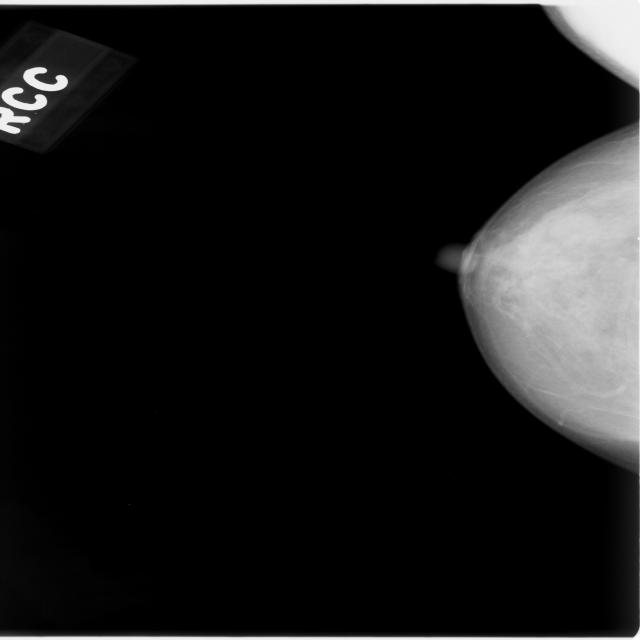normal: (375, 96, 640, 473)
